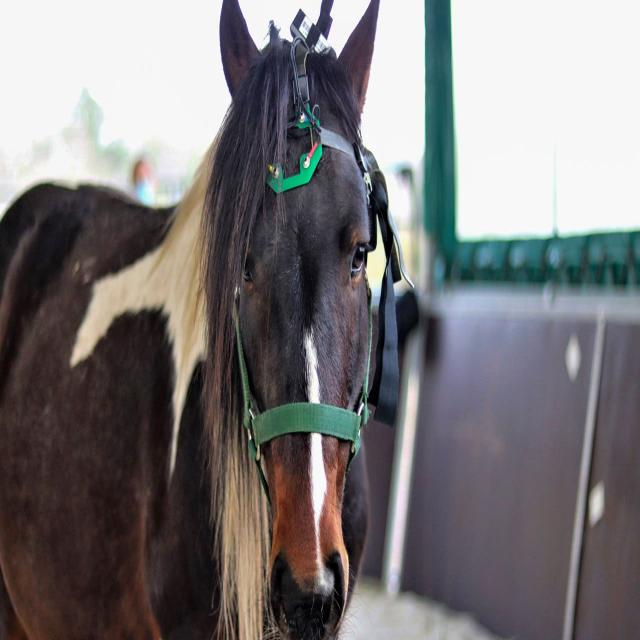Horse: (0, 0, 399, 640)
